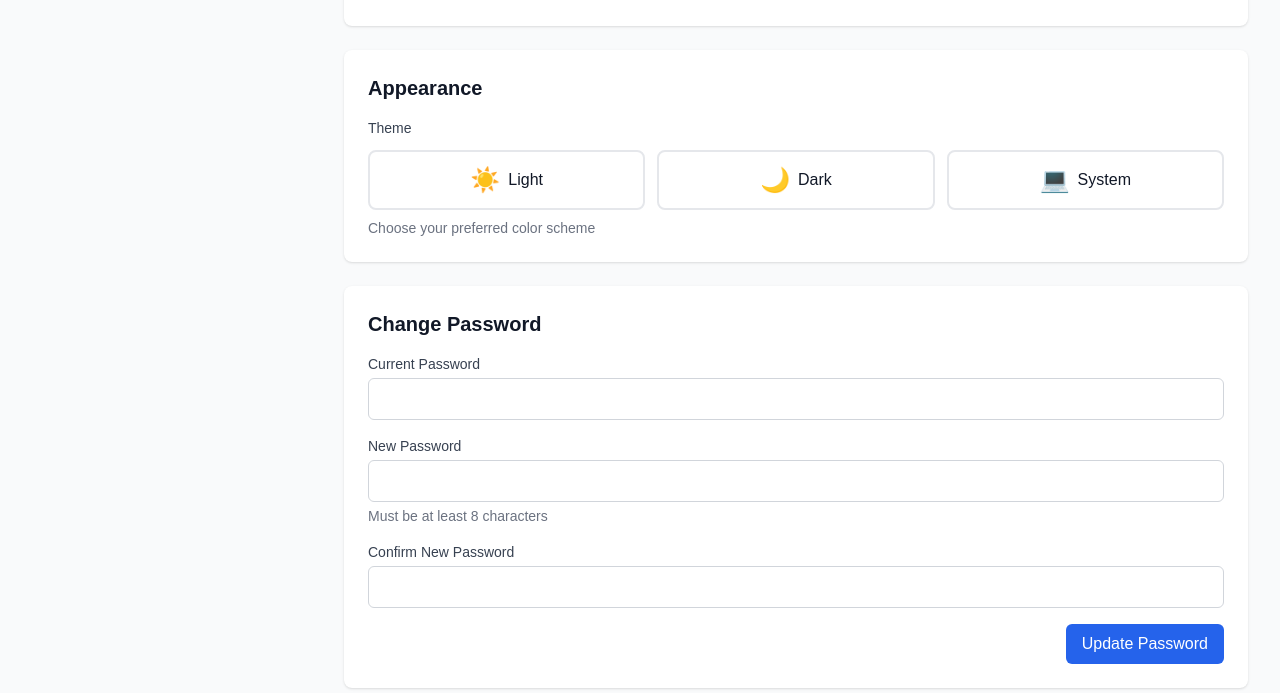
Test: Settings Page › shows error when new password is too short
(page scrolled)
Type "oldpassword" into the password field labelled "Current Password" at (796, 399), box [368,378,1224,420]
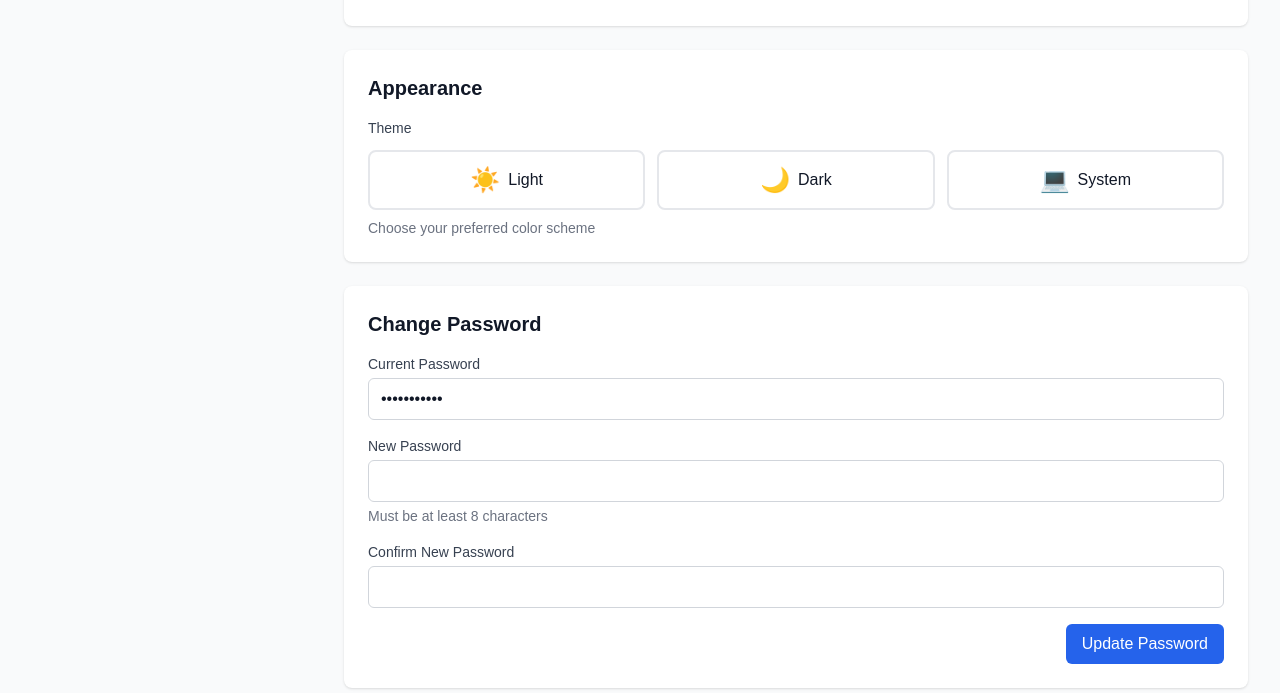
Type "short" into the password field labelled "New Password" at (796, 481), box [368,460,1224,502]
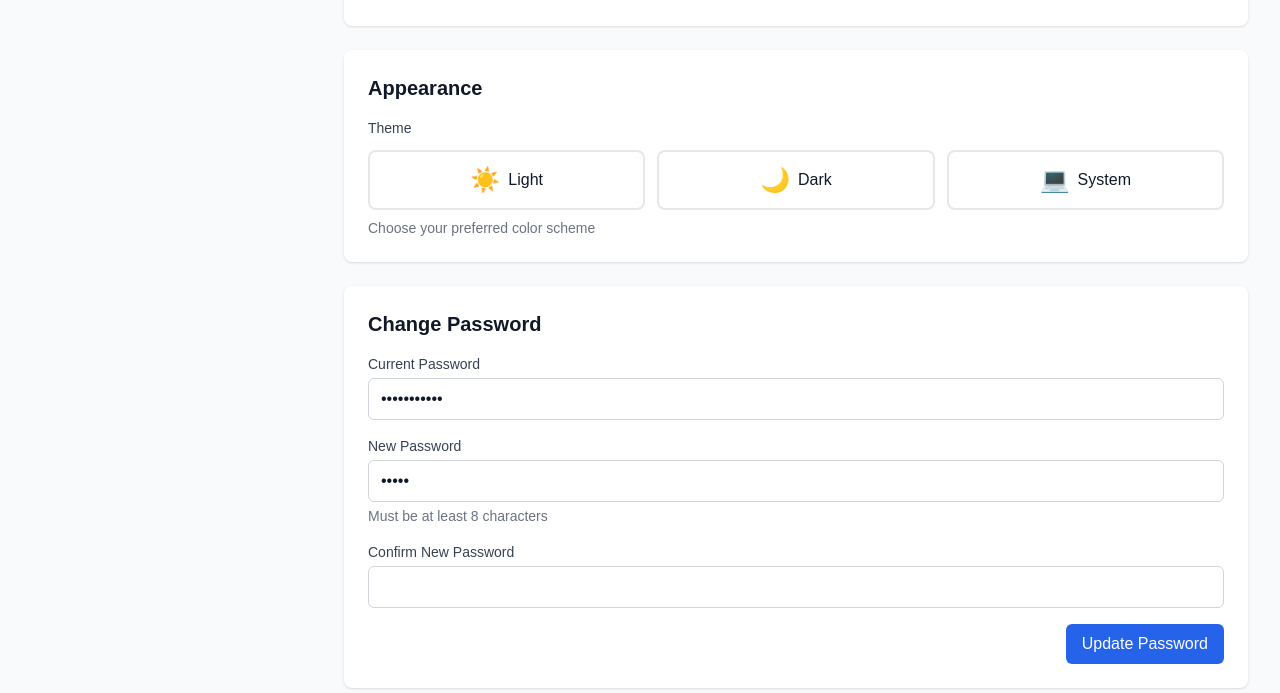
Type "short" into the password field labelled "Confirm New Password" at (796, 587), box [368,566,1224,608]
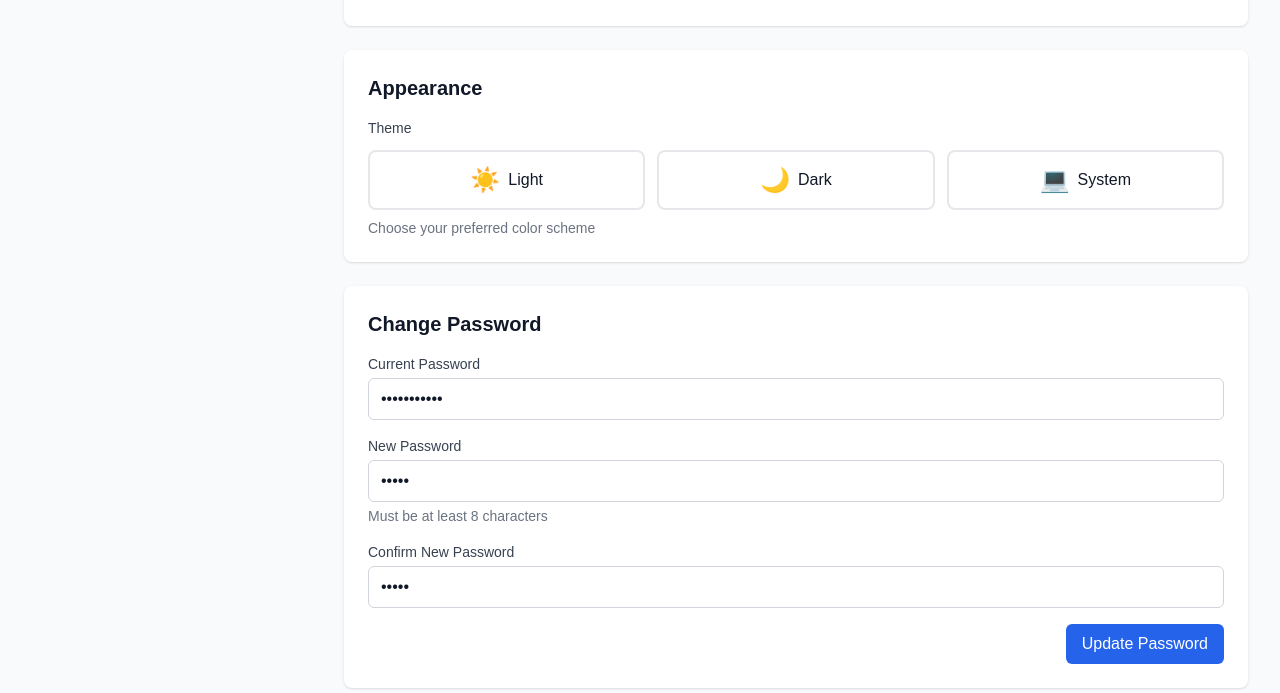
Click the button "Update Password" at (1145, 644), box [1066,624,1224,664]
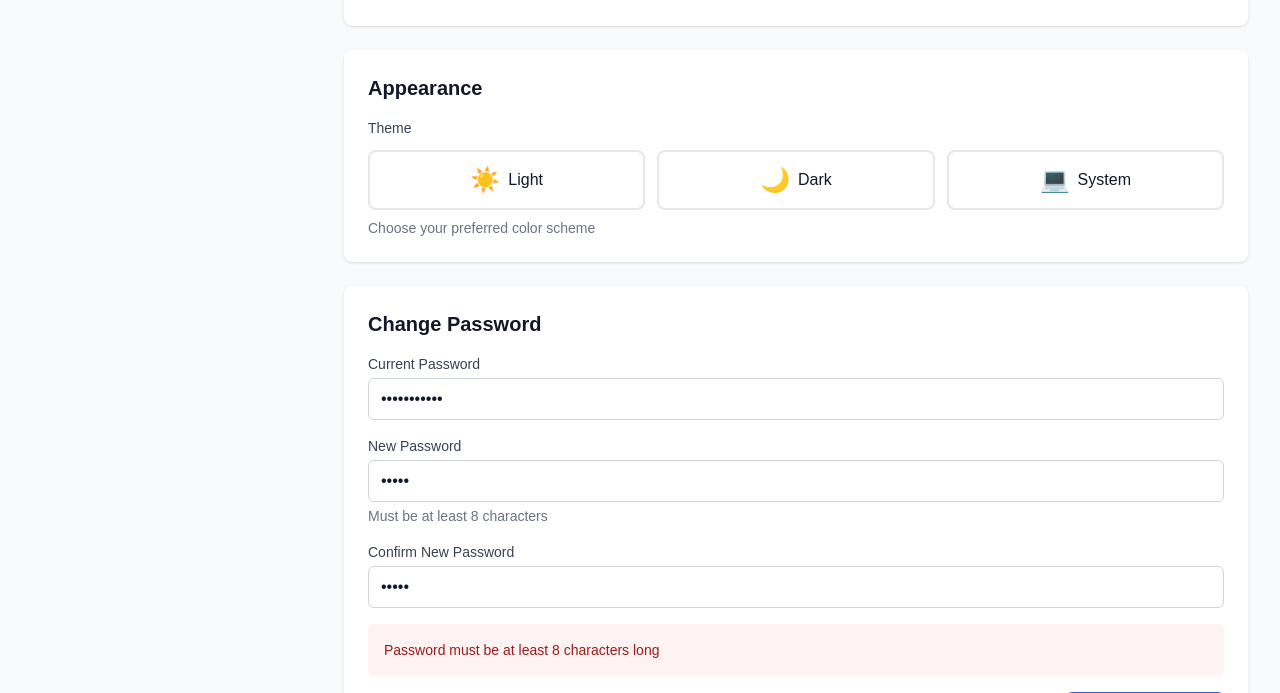
Check: the text "Password must be at least 8 characters long" is shown, box [384,642,660,658]
